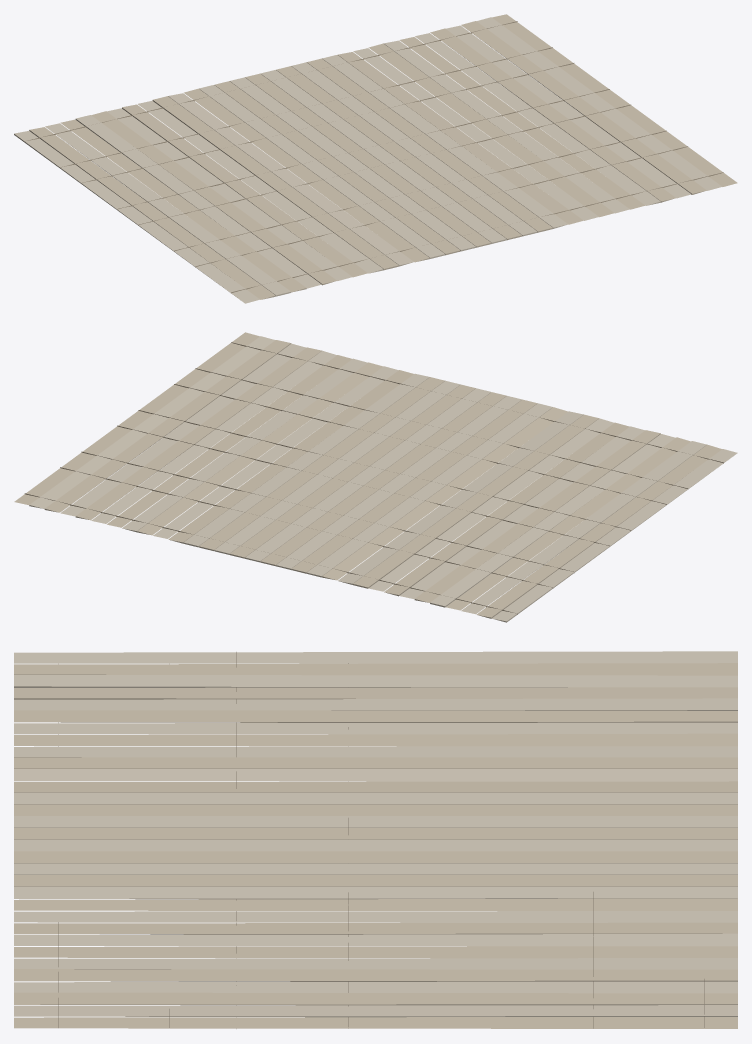
Rendered from home_floor_boards_s3__birch_low.glb.
The picture shows the model from 3 angles, top to bottom: view 1: azimuth 30°, elevation 25°; view 2: azimuth 150°, elevation 25°; view 3: azimuth 270°, elevation 25°; orthographic projection. The views are drawn at different scales.
Bounding box in the file's own units: 16 × 0.042 × 13.
